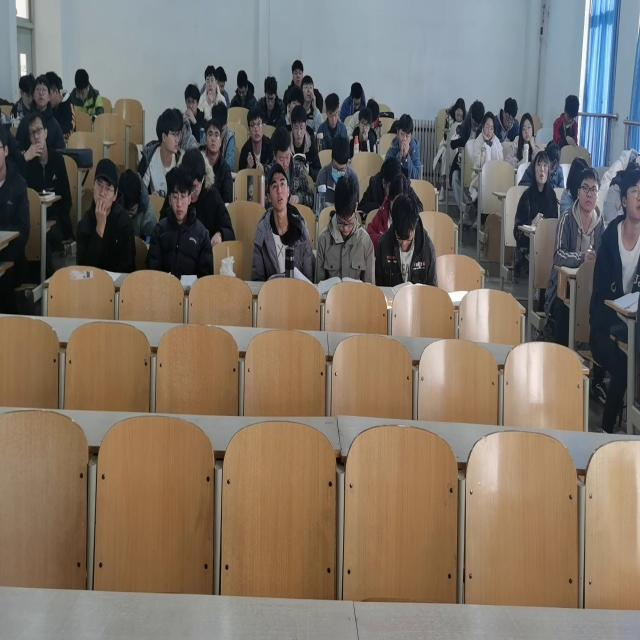bow: (118, 164, 158, 244), (450, 99, 487, 150), (493, 96, 522, 144), (339, 80, 366, 124), (443, 97, 467, 131)
down: (390, 193, 420, 251), (334, 176, 360, 240), (182, 148, 206, 203), (118, 168, 141, 222), (270, 126, 294, 174), (330, 134, 350, 187), (324, 91, 340, 131), (502, 96, 519, 132), (469, 99, 486, 134), (263, 76, 279, 112), (74, 68, 90, 103), (564, 94, 580, 128), (350, 81, 364, 112), (236, 70, 249, 101), (454, 97, 466, 125)
lookup: (165, 164, 194, 225), (92, 156, 118, 218), (266, 162, 292, 215), (618, 164, 640, 223), (576, 167, 602, 216), (26, 111, 48, 152), (396, 113, 415, 155), (247, 105, 267, 144), (290, 104, 308, 146), (204, 118, 223, 156), (532, 150, 551, 187), (32, 75, 51, 110), (184, 83, 201, 118), (481, 111, 497, 143), (204, 64, 218, 99), (520, 112, 535, 143), (358, 108, 372, 140), (301, 75, 315, 105), (292, 59, 305, 89)
sit: (250, 159, 318, 280), (147, 162, 215, 278), (74, 152, 138, 271), (590, 166, 640, 304), (316, 172, 376, 283), (375, 190, 438, 290), (182, 145, 236, 249), (552, 165, 605, 269), (16, 108, 71, 192), (262, 125, 314, 212), (313, 120, 358, 213), (140, 105, 182, 197), (514, 148, 559, 231), (16, 76, 66, 149), (200, 118, 234, 205), (386, 112, 422, 182), (237, 105, 273, 172), (44, 70, 77, 143), (289, 102, 320, 178), (505, 110, 540, 170), (316, 91, 348, 153), (471, 110, 504, 169), (253, 73, 287, 127), (69, 66, 104, 118), (8, 69, 36, 130), (552, 91, 580, 150), (199, 64, 226, 121), (184, 80, 209, 140), (350, 106, 378, 155), (301, 75, 324, 133), (229, 68, 257, 110)
